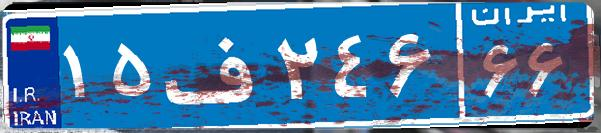1: (57, 26, 110, 107)
2: (273, 28, 330, 110)
4: (330, 28, 385, 110)
5: (110, 28, 158, 105)
6: (385, 28, 445, 110), (475, 38, 525, 113), (525, 38, 570, 115)
ف: (158, 15, 273, 115)
